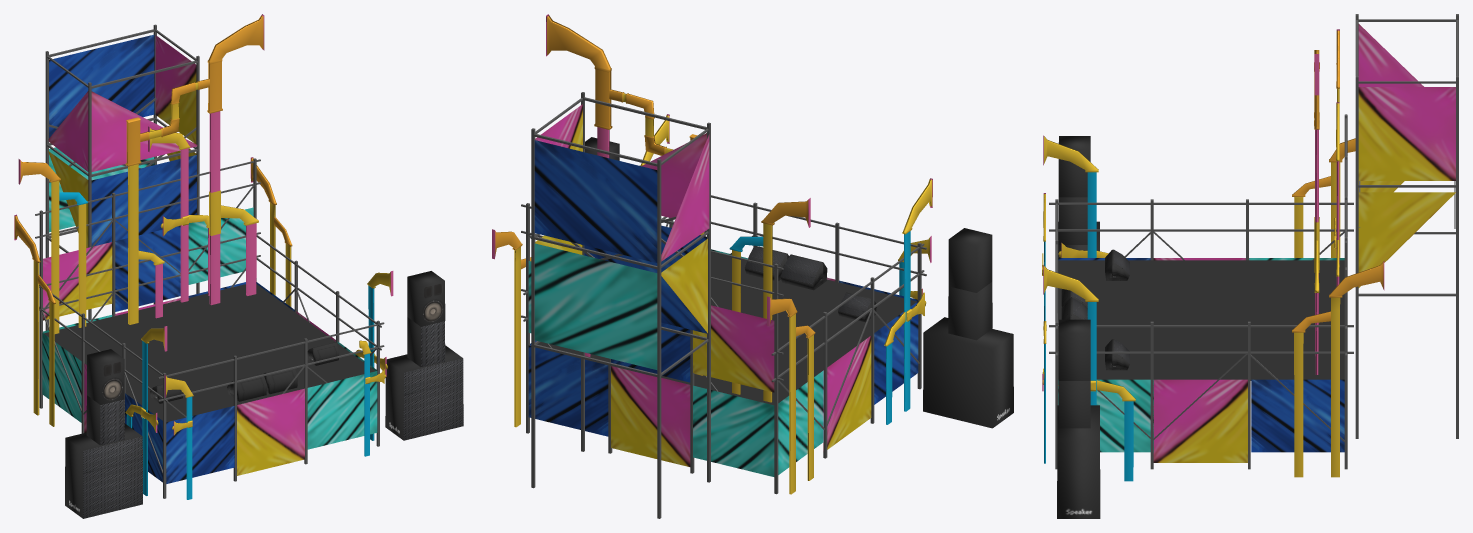
The model's file is Songkran_Stage.fbx.
3 views of the same model, side by side, from view 1: azimuth 30°, elevation 25°; view 2: azimuth 150°, elevation 25°; view 3: azimuth 270°, elevation 25° (orthographic). The views are drawn at different scales.
Parts seen in each view (by area): view 1: stage1; view 2: stage1; view 3: stage1.
Part boxes in pixels (x1=…): stage1: x1=14, y1=14, x2=463, y2=518; stage1: x1=492, y1=14, x2=1013, y2=518; stage1: x1=1042, y1=14, x2=1458, y2=518.
Size of the model in its own units: 177 by 159 by 143.
2 materials, 1 textured.
